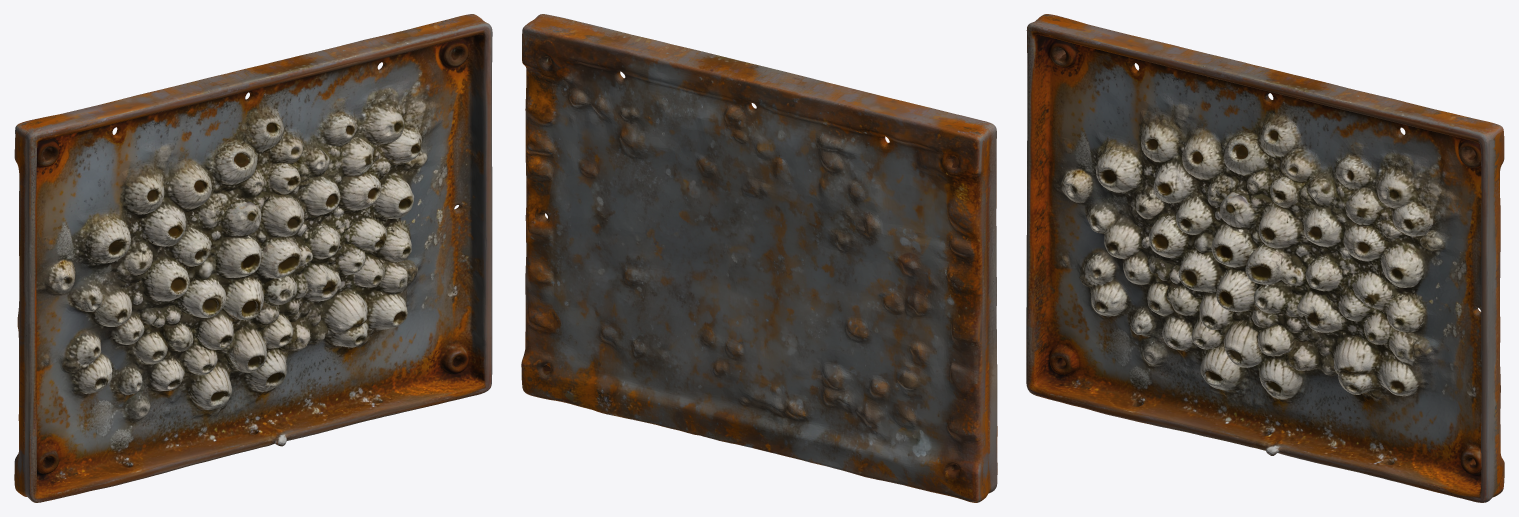
3 renders of one model, left to right at view 1: azimuth 30°, elevation 25°; view 2: azimuth 150°, elevation 25°; view 3: azimuth 330°, elevation 25°, orthographic.
Visible parts, largest first — view 1: textured.obj; view 2: textured.obj; view 3: textured.obj.
Boxes of the visible parts, bbox=[...] form: textured.obj: bbox=[14, 14, 492, 502]; textured.obj: bbox=[521, 14, 997, 502]; textured.obj: bbox=[1026, 14, 1504, 502].
Size of the model in its own units: 1.99 by 1.54 by 0.2453.
1 material, 1 textured.
